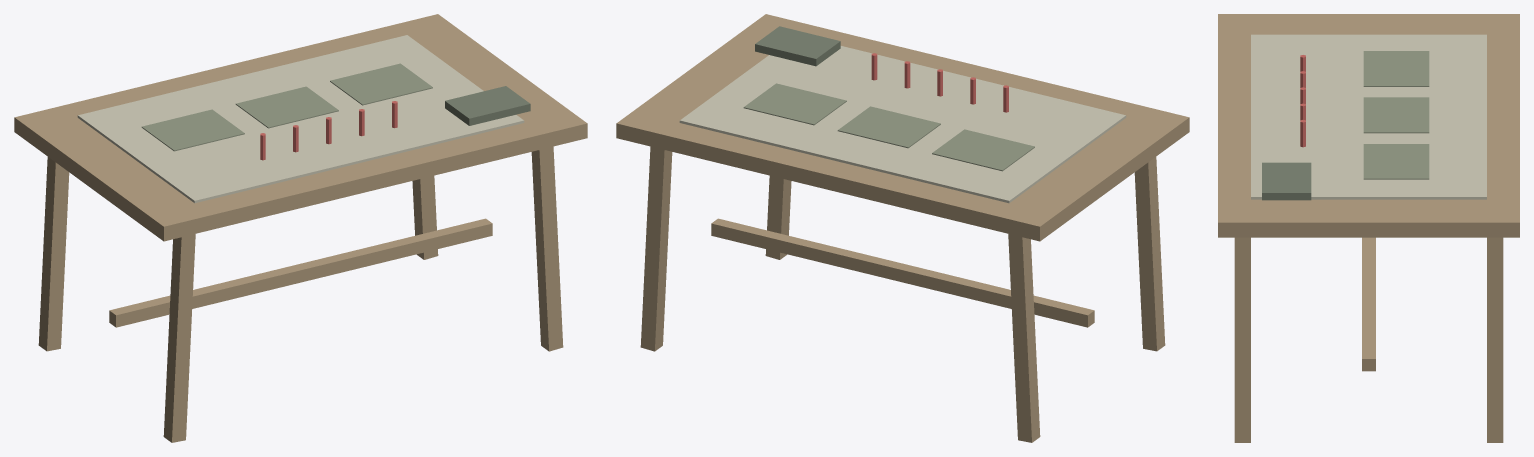
The model's file is armoured-column-and-field-camp-map-table-f2cad1bd__23724.glb.
3 renders of one model, left to right at view 1: azimuth 30°, elevation 25°; view 2: azimuth 150°, elevation 25°; view 3: azimuth 270°, elevation 25°, orthographic.
Parts seen in each view (by area): view 1: map-table; view 2: map-table; view 3: map-table.
Part boxes in pixels (bbox=[...]): map-table: bbox=[14, 14, 587, 442]; map-table: bbox=[616, 14, 1189, 442]; map-table: bbox=[1218, 14, 1519, 442].
Size of the model in its own units: 1.8 by 1.03 by 1.1.
